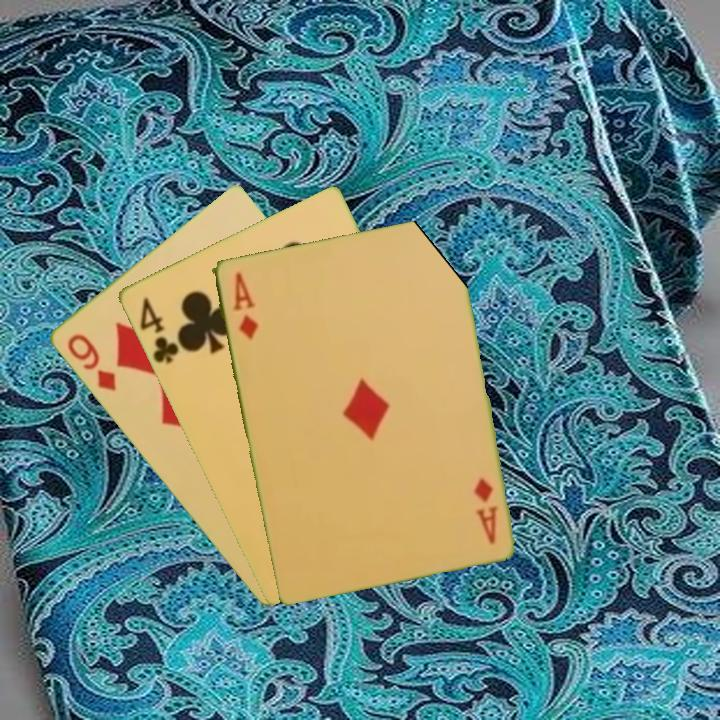4c: (135, 293, 182, 366)
9d: (63, 330, 119, 395)
Ad: (228, 268, 261, 342), (469, 474, 501, 546)
